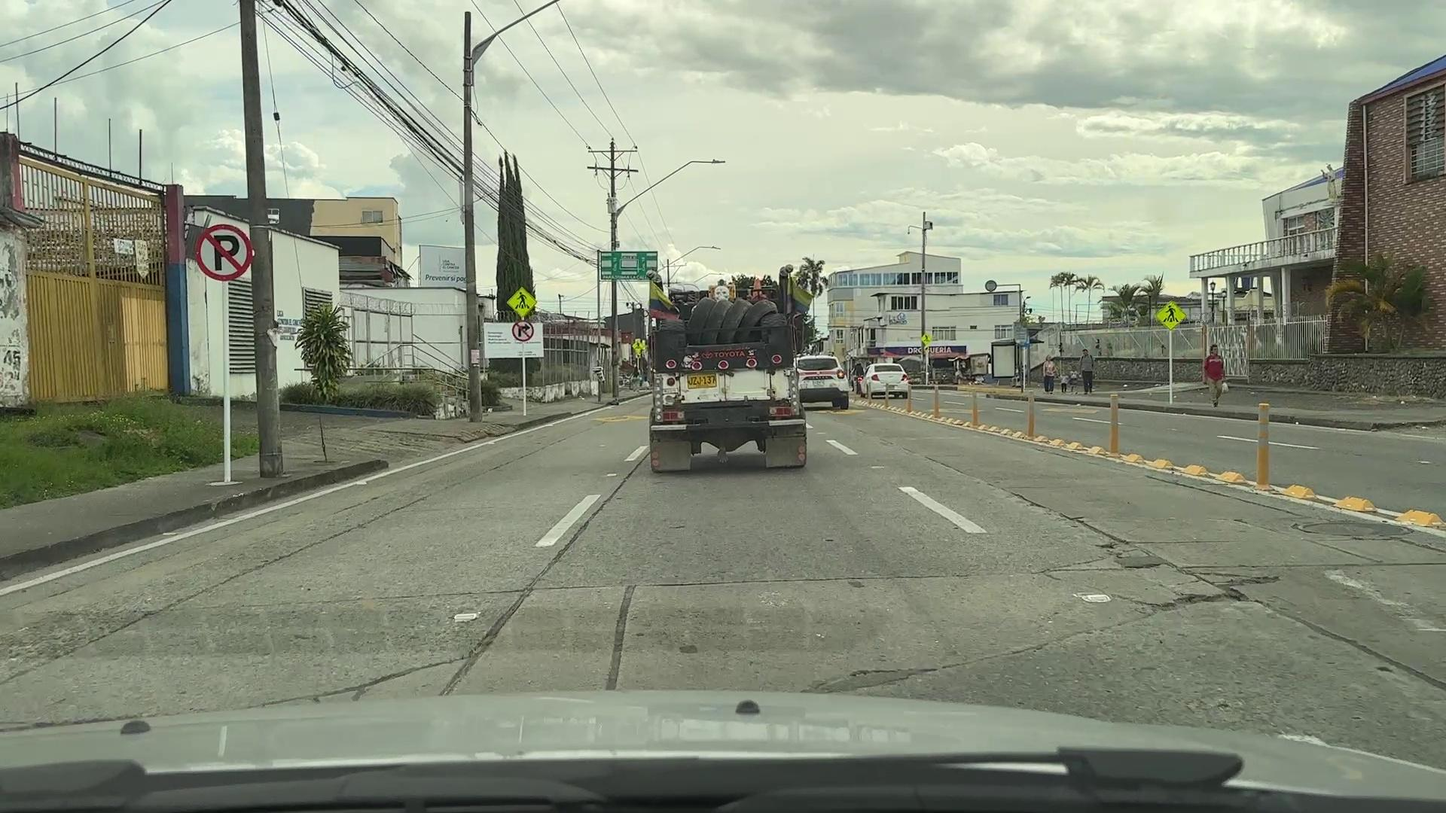bache: (1110, 572, 1280, 616), (1096, 540, 1174, 569)
grieta: (243, 451, 651, 708), (1267, 603, 1445, 692), (1011, 492, 1119, 540), (606, 585, 636, 691), (1349, 537, 1445, 553)
registro: (1302, 523, 1414, 536)
